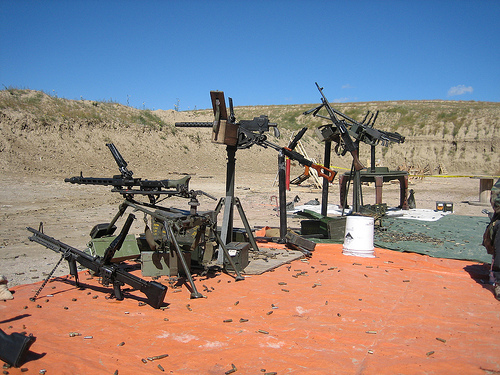rifle: (22, 216, 169, 303), (61, 138, 199, 210), (181, 93, 301, 161)
